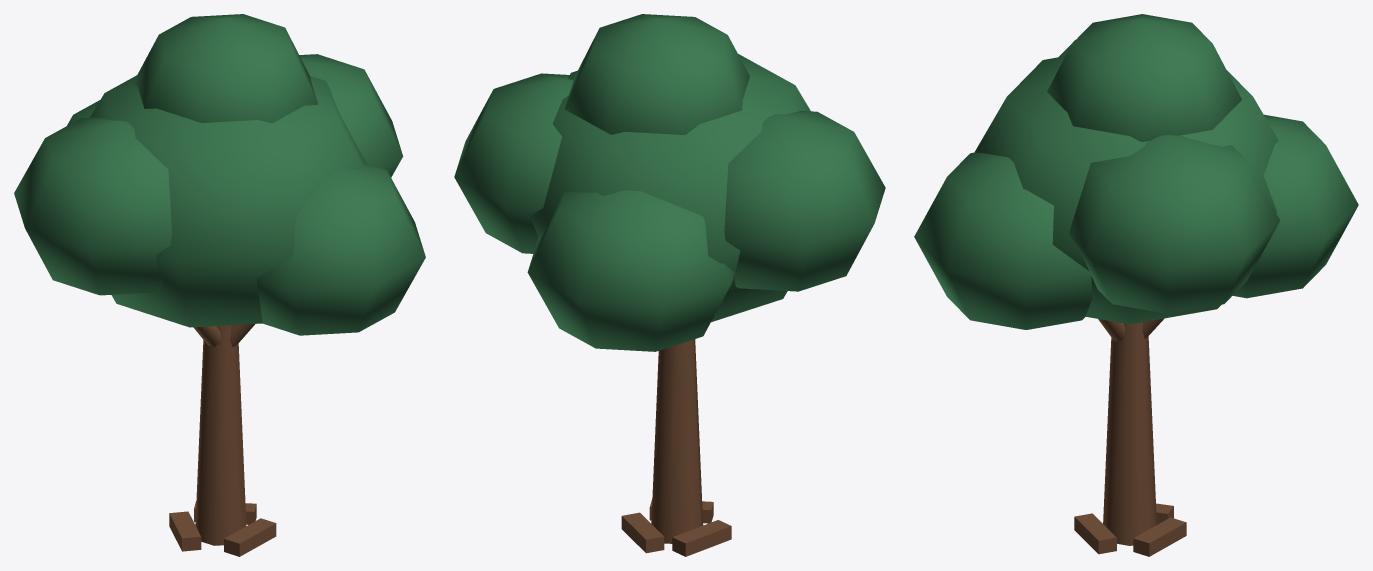
Rendered from oak-tree-lod1.glb.
3 views of the same model, side by side, from view 1: azimuth 30°, elevation 25°; view 2: azimuth 150°, elevation 25°; view 3: azimuth 270°, elevation 25° (orthographic). The views are drawn at different scales.
Parts seen in each view (by area): view 1: canopy-core, canopy-3, canopy-0, canopy-top, trunk, canopy-1, root-0, root-2; view 2: canopy-2, canopy-3, canopy-core, canopy-top, canopy-1, trunk, root-2, root-1; view 3: canopy-1, canopy-0, canopy-top, canopy-core, canopy-2, trunk, root-1, root-0.
Boxes of the visible parts, box(x1,y1,x2,y2) form: canopy-core: box(90, 75, 366, 327); canopy-3: box(14, 117, 171, 295); canopy-0: box(256, 163, 425, 335); canopy-top: box(133, 14, 318, 123); trunk: box(195, 325, 246, 545); canopy-1: box(299, 54, 403, 177); root-0: box(224, 518, 276, 556); root-2: box(169, 511, 201, 551); canopy-2: box(527, 190, 734, 351); canopy-3: box(724, 111, 885, 291); canopy-core: box(530, 54, 810, 322); canopy-top: box(564, 14, 749, 134); canopy-1: box(454, 73, 573, 253); trunk: box(651, 339, 703, 543); root-2: box(672, 520, 731, 556); root-1: box(621, 512, 664, 553); canopy-1: box(1069, 134, 1280, 313); canopy-0: box(914, 152, 1092, 329); canopy-top: box(1047, 14, 1241, 141); canopy-core: box(974, 56, 1278, 324); canopy-2: box(1232, 114, 1358, 298); trunk: box(1103, 322, 1156, 545); root-1: box(1133, 517, 1186, 556); root-0: box(1074, 513, 1116, 554).
Size of the model in its own units: 3.65 by 4.6 by 3.57.
